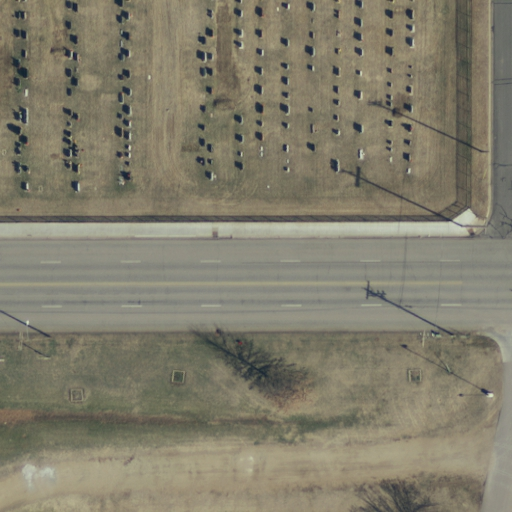DT: (418, 321, 471, 350), (457, 210, 496, 244), (470, 136, 497, 165)
